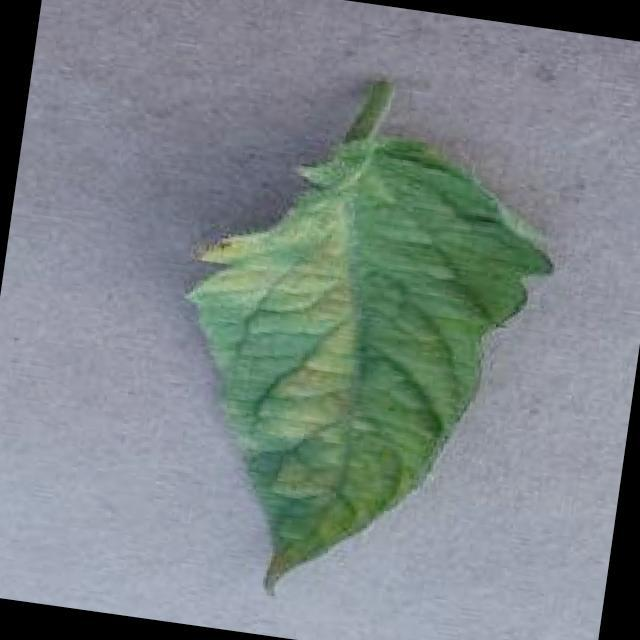Tomato mold leaf: (149, 112, 575, 633)
